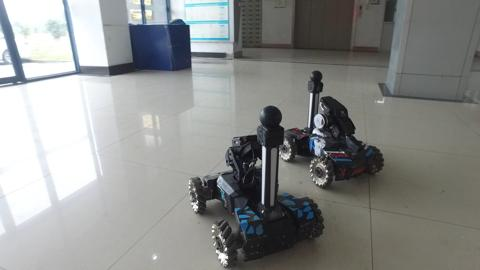chariot: (177, 100, 340, 268), (271, 64, 394, 198)
